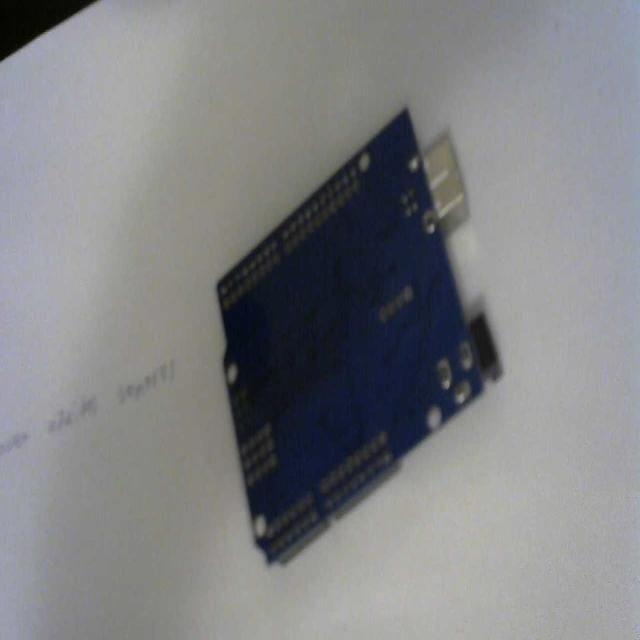arduino: (212, 101, 508, 574)
